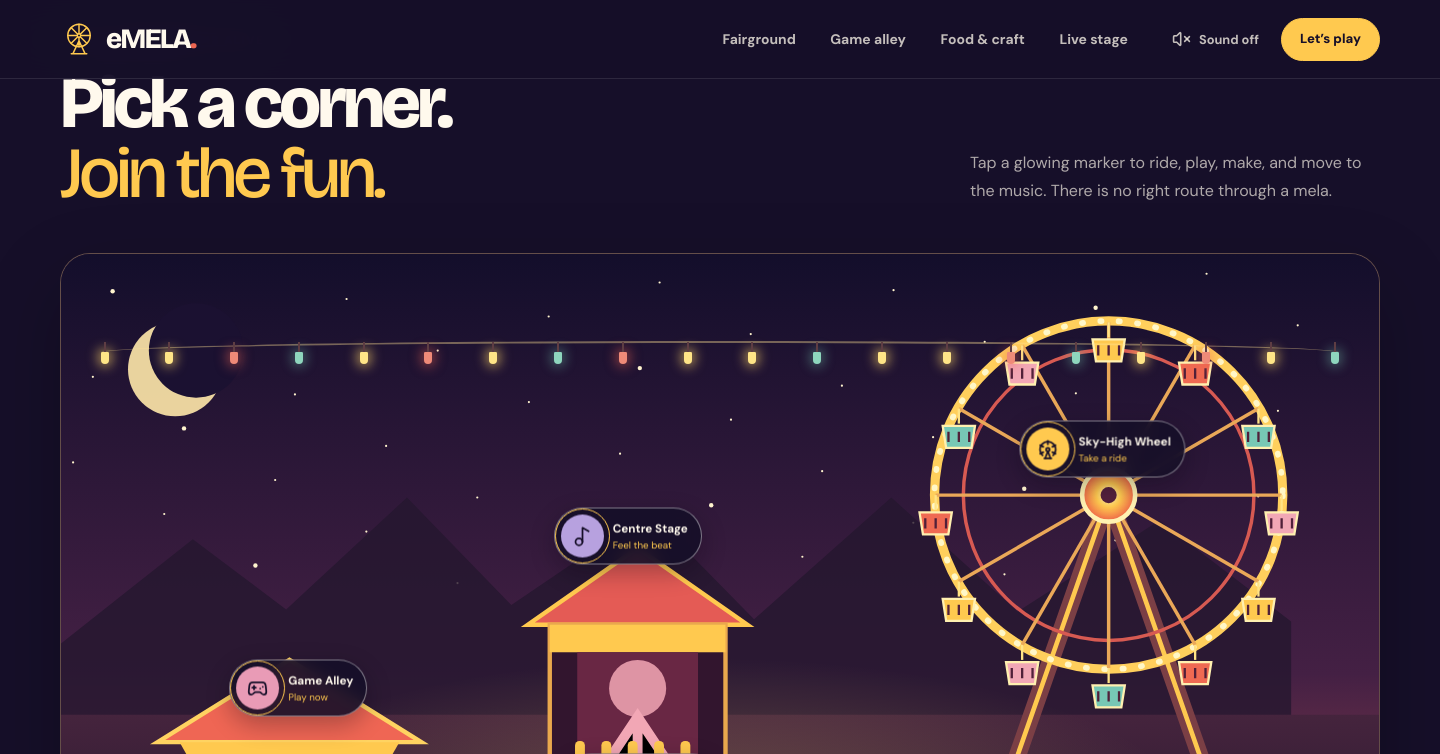
Test: eMELA interactive fair › starts the wheel ride and closes the accessibly labelled dialog with Escape
The image size is (1440, 754).
(page scrolled)
Click the button "Sky-High Wheel Take a ride" at (1102, 449), box [1020,421,1185,478]
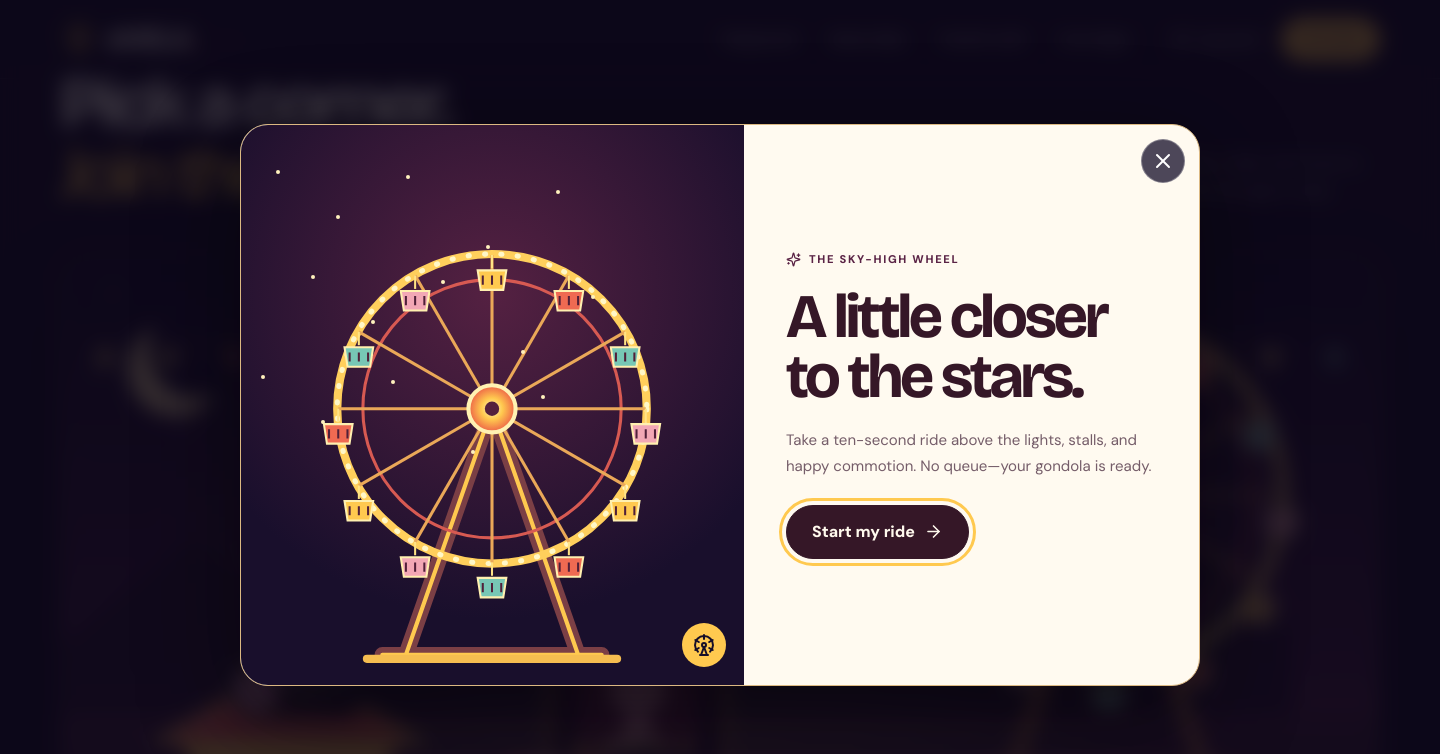
Check: the dialog "A little closer to the stars." is shown, box [240,124,1200,686]
Click the button "Start my ride" at (877, 532), box [786,505,969,559]
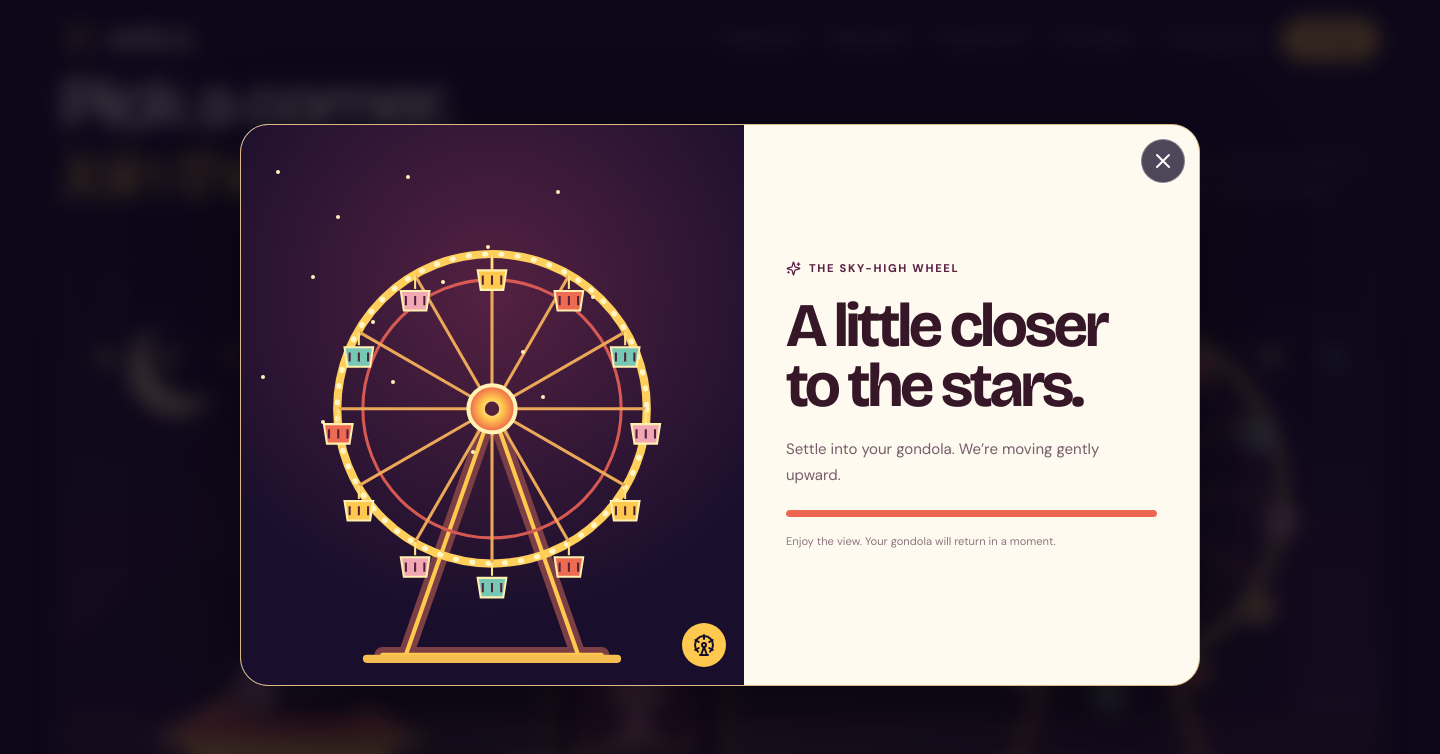
Check: the text "Settle into your gondola. We’re moving gently upward." is shown, box [786,439,1099,485]
Press Escape
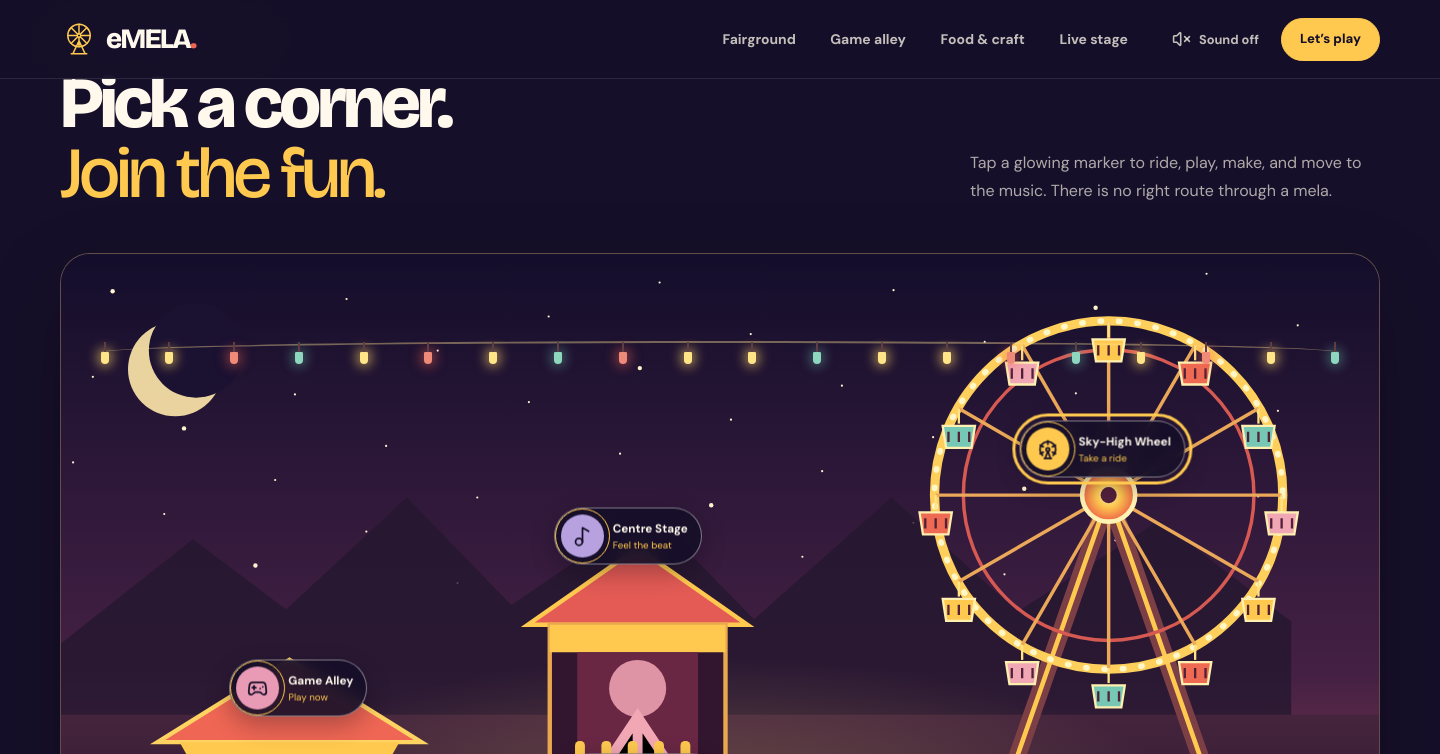
Check: the dialog is gone
